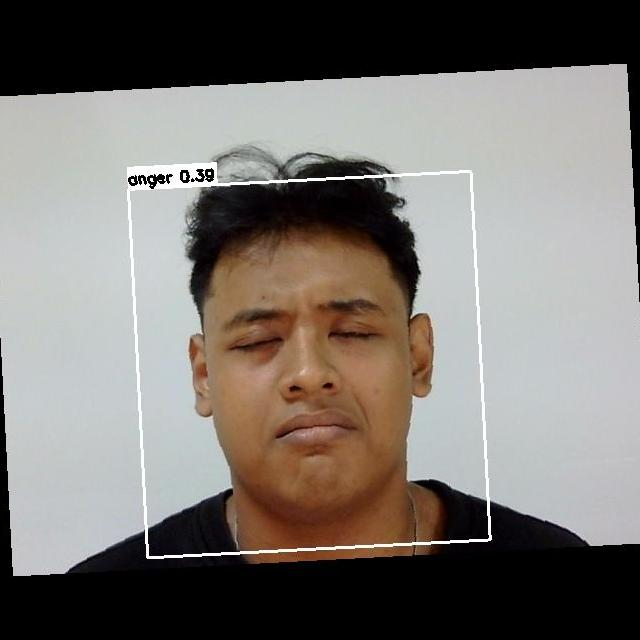Sad: (189, 291, 427, 476)
